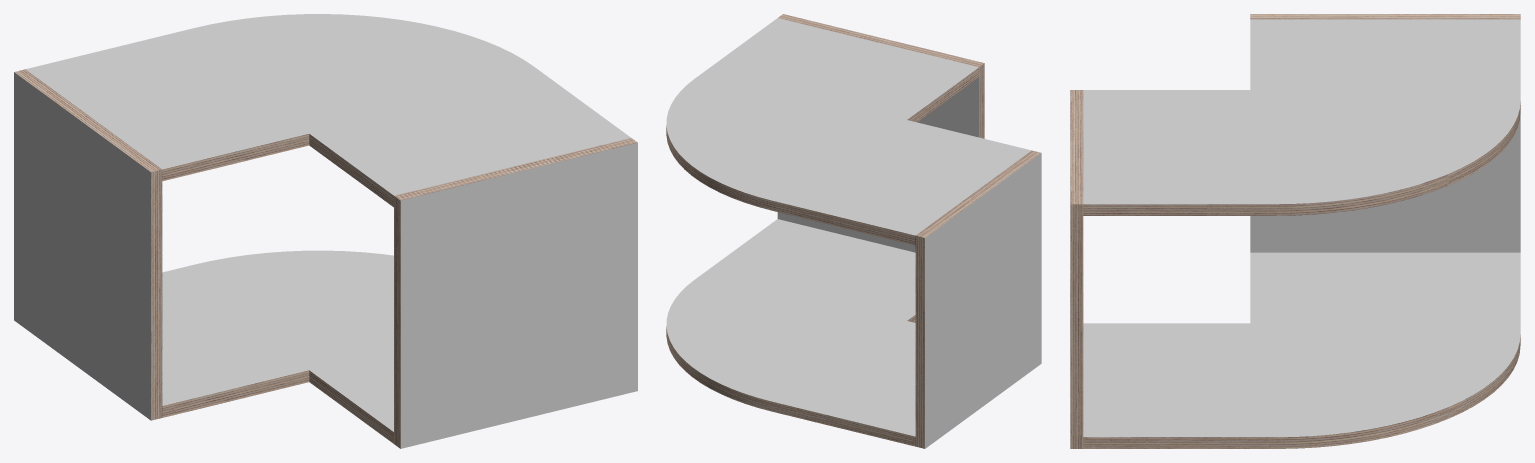
The model's file is Reverse Rounded Corner Open.fbx.
3 views of the same model, side by side, from view 1: azimuth 30°, elevation 25°; view 2: azimuth 150°, elevation 25°; view 3: azimuth 270°, elevation 25° (orthographic). The views are drawn at different scales.
Parts seen in each view (by area): view 1: Rounded Reverse Corner Open TL, Rounded Reverse Corner Open TM, Rounded Reverse Corner Open TR, Rounded Reverse Corner Open BL, Rounded Reverse Corner Open L, Rounded Reverse Corner Open BM, Rounded Reverse Corner Open BR, Rounded Reverse Corner Open R, Rounded Reverse Corner Open TMR, Rounded Reverse Corner Open TML, Rounded Reverse Corner Open BMR, Rounded Reverse Corner Open BML; view 2: Rounded Reverse Corner Open TM, Rounded Reverse Corner Open BM, Rounded Reverse Corner Open TR, Rounded Reverse Corner Open BR, Rounded Reverse Corner Open TL, Rounded Reverse Corner Open R, Rounded Reverse Corner Open TMR, Rounded Reverse Corner Open TML, Rounded Reverse Corner Open BML, Rounded Reverse Corner Open BMR, Rounded Reverse Corner Open BL; view 3: Rounded Reverse Corner Open BM, Rounded Reverse Corner Open TM, Rounded Reverse Corner Open BR, Rounded Reverse Corner Open TL, Rounded Reverse Corner Open BML, Rounded Reverse Corner Open TML, Rounded Reverse Corner Open BL, Rounded Reverse Corner Open BMR, Rounded Reverse Corner Open TMR, Rounded Reverse Corner Open TR, Rounded Reverse Corner Open R, Rounded Reverse Corner Open L.
Boxes of the visible parts, left/top/right/bottom form: Rounded Reverse Corner Open TL: left=355, top=109, right=637, bottom=283; Rounded Reverse Corner Open TM: left=172, top=14, right=546, bottom=133; Rounded Reverse Corner Open TR: left=14, top=53, right=229, bottom=254; Rounded Reverse Corner Open BL: left=355, top=308, right=637, bottom=448; Rounded Reverse Corner Open L: left=394, top=225, right=637, bottom=365; Rounded Reverse Corner Open BM: left=172, top=250, right=393, bottom=370; Rounded Reverse Corner Open BR: left=14, top=238, right=229, bottom=420; Rounded Reverse Corner Open R: left=14, top=155, right=162, bottom=337; Rounded Reverse Corner Open TMR: left=93, top=33, right=309, bottom=164; Rounded Reverse Corner Open TML: left=309, top=76, right=591, bottom=178; Rounded Reverse Corner Open BMR: left=162, top=270, right=309, bottom=401; Rounded Reverse Corner Open BML: left=309, top=349, right=393, bottom=415; Rounded Reverse Corner Open TM: left=666, top=71, right=906, bottom=214; Rounded Reverse Corner Open BM: left=666, top=272, right=906, bottom=415; Rounded Reverse Corner Open TR: left=858, top=136, right=1041, bottom=308; Rounded Reverse Corner Open BR: left=858, top=293, right=1041, bottom=448; Rounded Reverse Corner Open TL: left=744, top=14, right=984, bottom=137; Rounded Reverse Corner Open R: left=915, top=223, right=1041, bottom=378; Rounded Reverse Corner Open TMR: left=790, top=120, right=973, bottom=231; Rounded Reverse Corner Open TML: left=706, top=42, right=945, bottom=122; Rounded Reverse Corner Open BML: left=706, top=243, right=915, bottom=322; Rounded Reverse Corner Open BMR: left=790, top=321, right=915, bottom=432; Rounded Reverse Corner Open BL: left=744, top=212, right=915, bottom=284; Rounded Reverse Corner Open BM: left=1250, top=323, right=1520, bottom=448; Rounded Reverse Corner Open TM: left=1250, top=90, right=1520, bottom=215; Rounded Reverse Corner Open BR: left=1250, top=182, right=1520, bottom=285; Rounded Reverse Corner Open TL: left=1070, top=90, right=1160, bottom=285; Rounded Reverse Corner Open BML: left=1160, top=323, right=1250, bottom=448; Rounded Reverse Corner Open TML: left=1160, top=90, right=1250, bottom=215; Rounded Reverse Corner Open BL: left=1070, top=323, right=1160, bottom=448; Rounded Reverse Corner Open BMR: left=1250, top=285, right=1520, bottom=323; Rounded Reverse Corner Open TMR: left=1250, top=52, right=1520, bottom=89; Rounded Reverse Corner Open TR: left=1250, top=14, right=1520, bottom=51; Rounded Reverse Corner Open R: left=1455, top=113, right=1520, bottom=182; Rounded Reverse Corner Open L: left=1070, top=285, right=1083, bottom=367.
Bounding box in the file's own units: 66.67 × 40 × 66.67.
